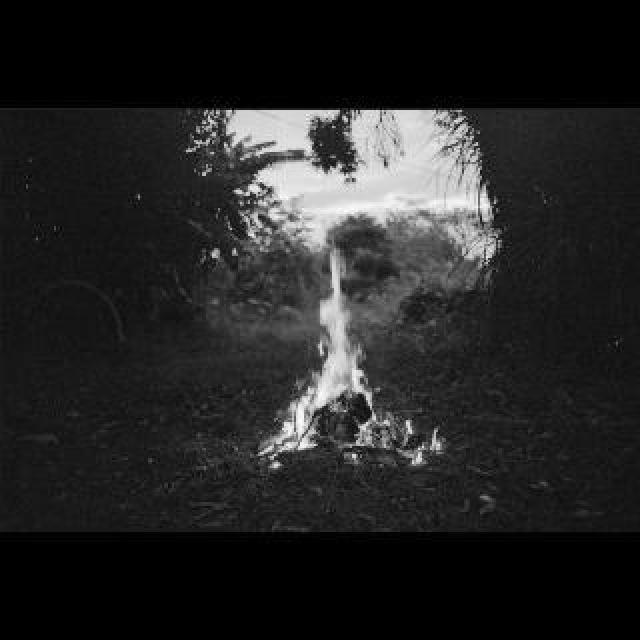zfire: (264, 228, 446, 474)
